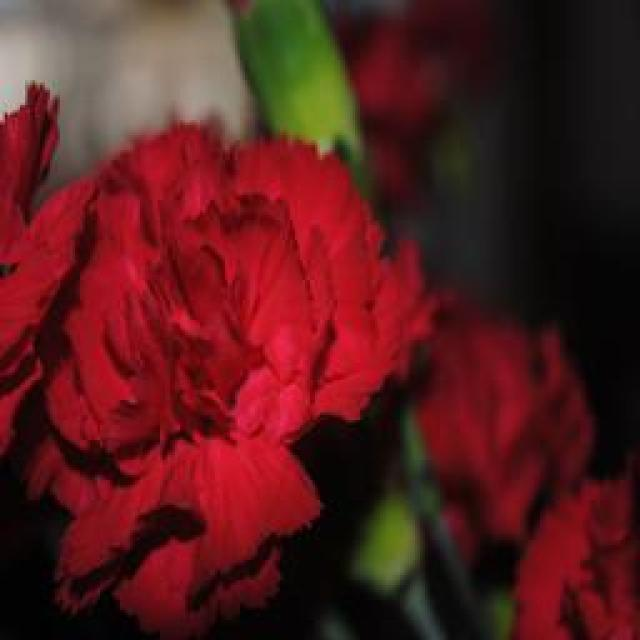carnation: (0, 113, 424, 626)
